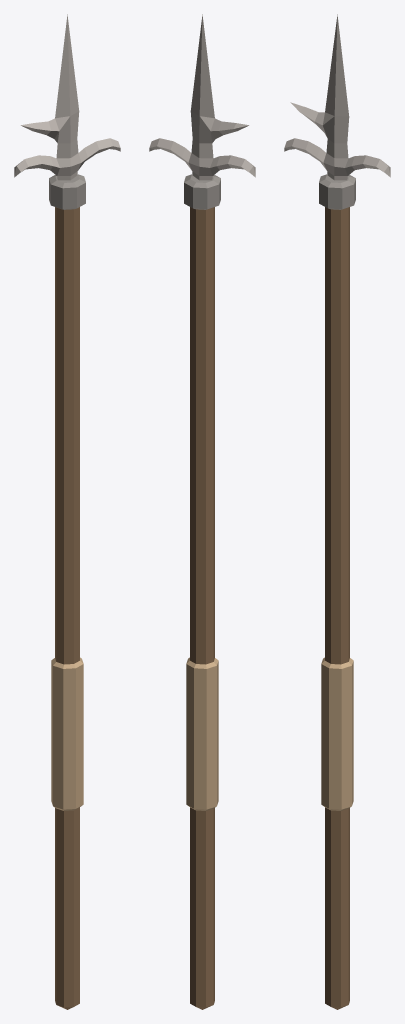
The model's file is SM_pwe_china_spear_01a.fbx.
3 views of the same model, side by side, from view 1: azimuth 30°, elevation 25°; view 2: azimuth 150°, elevation 25°; view 3: azimuth 330°, elevation 25° (orthographic).
Visible parts, largest first — view 1: SM_pwe_china_spear_01a; view 2: SM_pwe_china_spear_01a; view 3: SM_pwe_china_spear_01a.
Boxes of the visible parts, x1,y1,x2,y2 form: SM_pwe_china_spear_01a: (14,14,120,1009); SM_pwe_china_spear_01a: (149,14,255,1009); SM_pwe_china_spear_01a: (284,14,390,1009).
Bounding box in the file's own units: 20.56 × 183 × 6.43.
